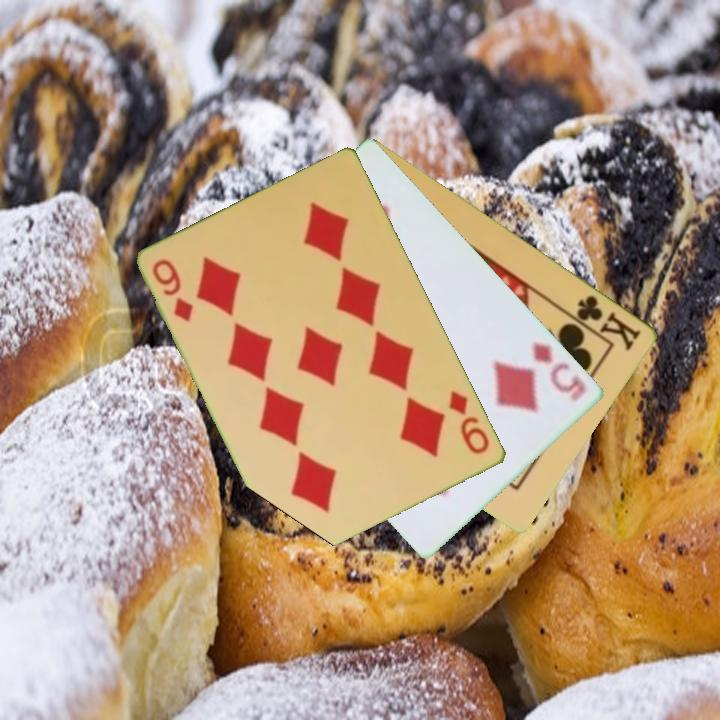5d: (529, 337, 590, 405)
9d: (149, 255, 197, 325), (446, 387, 493, 458)
Kc: (563, 291, 645, 354)
